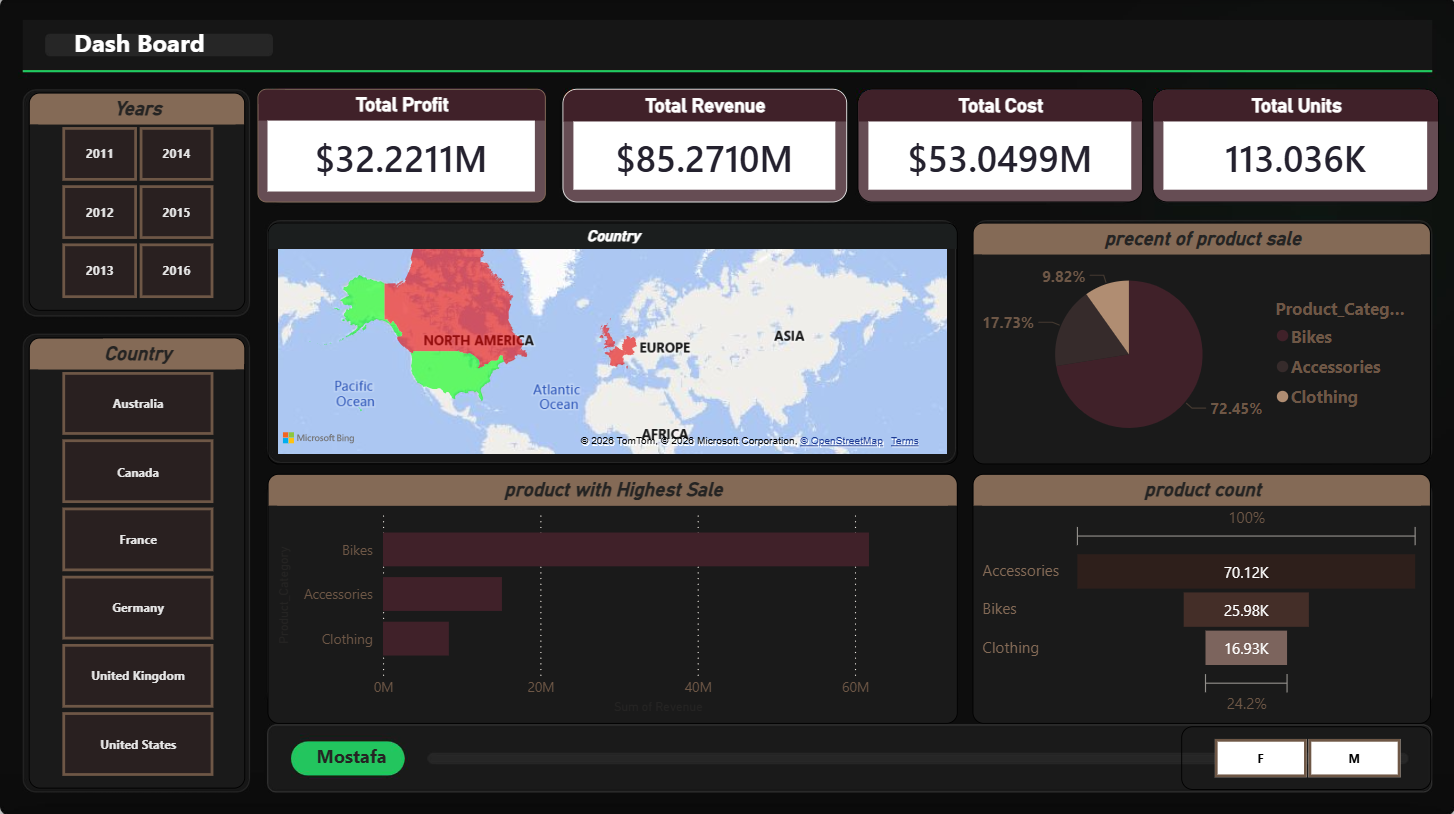

What the dashboard file says about the page in this screenshot:
{"tool":"powerbi","page":{"name":"Dashboard","canvas":[1280,720],"ordinal":0},"visuals":[{"type":"cardVisual","title":"Total Profit","fields":{"Data":["Sales.total_profit"]},"box":[226.2,78.6,253.6,100],"z":0},{"type":"cardVisual","title":"Total Units","fields":{"Data":["CountNonNull(Sales.Order_Quantity)"]},"box":[1014.3,78.6,252.4,100],"z":1000},{"type":"cardVisual","title":"Total Cost","fields":{"Data":["Sales.Total Cost"]},"box":[754.8,78.6,251.2,100],"z":2000},{"type":"cardVisual","title":"Total Revenue","fields":{"Data":["Sales.total_revenue"]},"box":[495.2,78.6,250,100],"z":3000},{"type":"slicer","title":"Country","fields":{"Values":["Sales.Country"]},"box":[25,296.4,190.5,396.4],"z":4000},{"type":"slicer","title":"Years","fields":{"Values":["Sales.Date.Variation.Date Hierarchy.Year"]},"box":[25,81,190.5,191.7],"z":5000},{"type":"filledMap","title":"Country","fields":{"Category":["Sales.Country"]},"box":[235.7,195.2,607.1,213.1],"z":6000},{"type":"pieChart","title":"precent of product sale","fields":{"Category":["Sales.Product_Category"],"Y":["Sum(Sales.Revenue)"]},"box":[856,195.2,403.6,213.1],"z":7000},{"type":"barChart","title":"product with Highest Sale","fields":{"Category":["Sales.Product_Category"],"Y":["Sum(Sales.Revenue)"]},"box":[235.7,416.7,607.1,220.2],"z":8000},{"type":"funnel","title":"product count","fields":{"Category":["Sales.Product_Category"],"Y":["CountNonNull(Sales.Product)"]},"box":[856,416.7,403.6,220.2],"z":9000},{"type":"textbox","box":[0,17.9,251.2,47.6],"z":10000},{"type":"slicer","title":"Years","fields":{"Values":["Sales.Customer_Gender"]},"box":[1039.3,639.3,220.2,56],"z":11000},{"type":"textbox","box":[226.2,648.8,165.5,36.9],"z":12000}]}

Visuals, with their boxes in screenshot pixels (x1, y1, x2, y2), scaled from the page's 1280x720 canvas onto the 1454x814 screenshot:
"Total Profit" cardVisual: Rect(257, 89, 545, 202)
"Total Units" cardVisual: Rect(1152, 89, 1439, 202)
"Total Cost" cardVisual: Rect(857, 89, 1143, 202)
"Total Revenue" cardVisual: Rect(563, 89, 847, 202)
"Country" slicer: Rect(28, 335, 245, 783)
"Years" slicer: Rect(28, 92, 245, 308)
"Country" filledMap: Rect(268, 221, 957, 462)
"precent of product sale" pieChart: Rect(972, 221, 1431, 462)
"product with Highest Sale" barChart: Rect(268, 471, 957, 720)
"product count" funnel: Rect(972, 471, 1431, 720)
textbox: Rect(0, 20, 285, 74)
"Years" slicer: Rect(1181, 723, 1431, 786)
textbox: Rect(257, 734, 445, 775)
